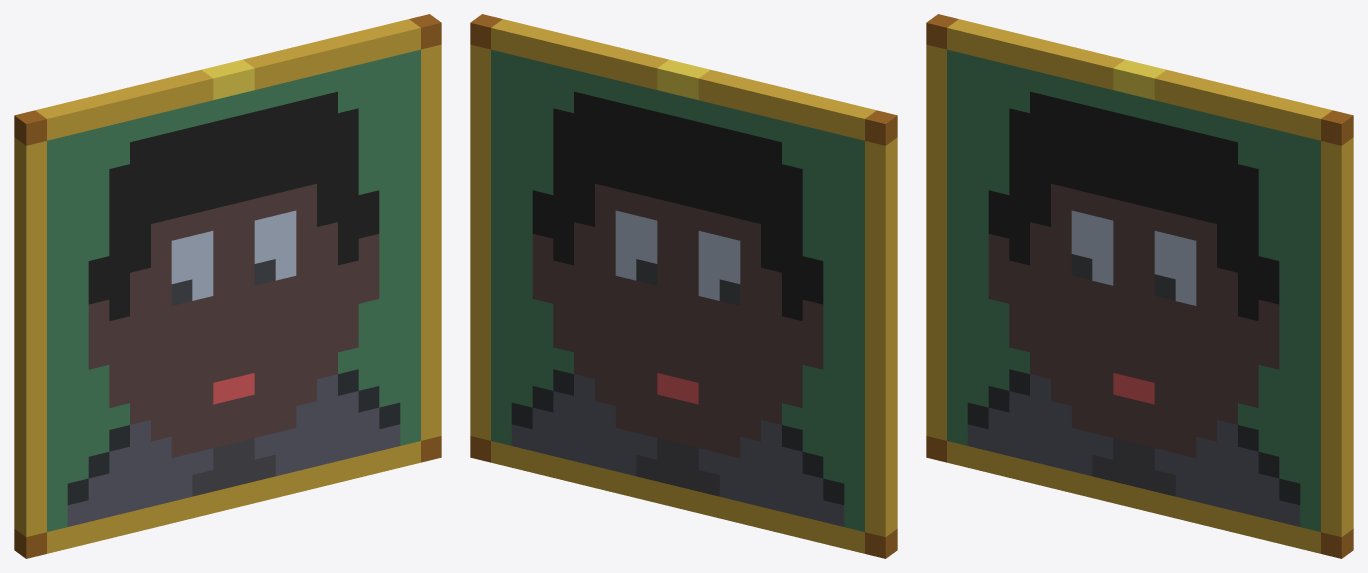
The model's file is portrait5.obj.
The picture shows the model from 3 angles, left to right: view 1: azimuth 30°, elevation 25°; view 2: azimuth 150°, elevation 25°; view 3: azimuth 330°, elevation 25°; orthographic projection.
Bounding box in the file's own units: 2 × 2 × 0.1.
1 material, 1 textured.
